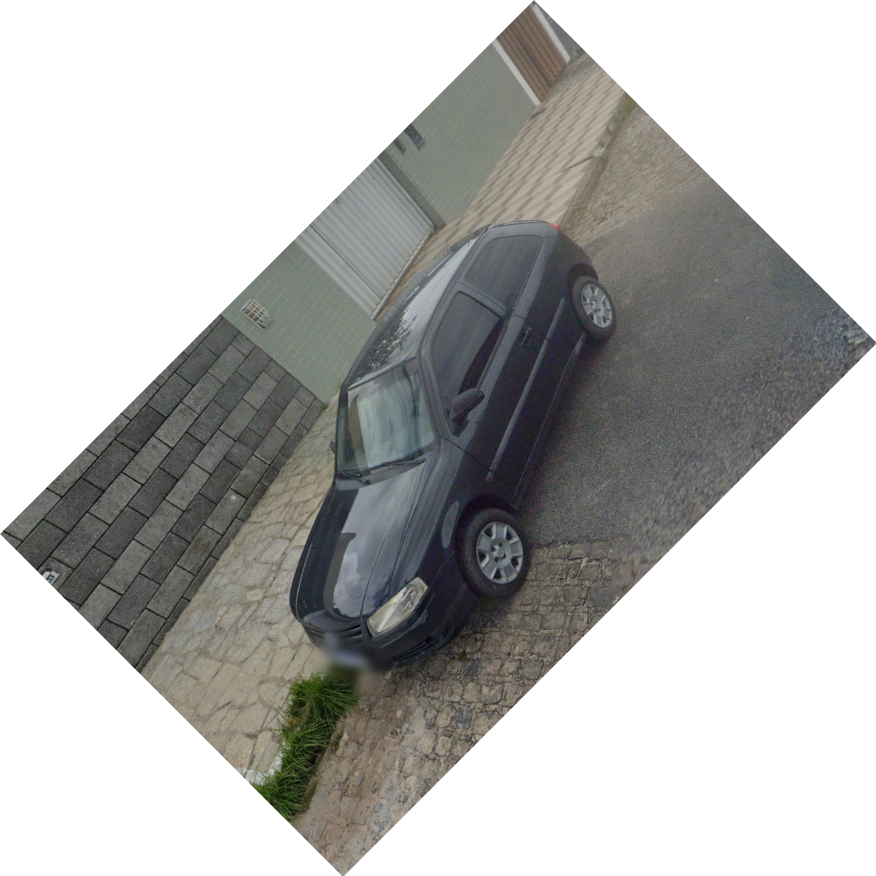car: (292, 219, 619, 674)
